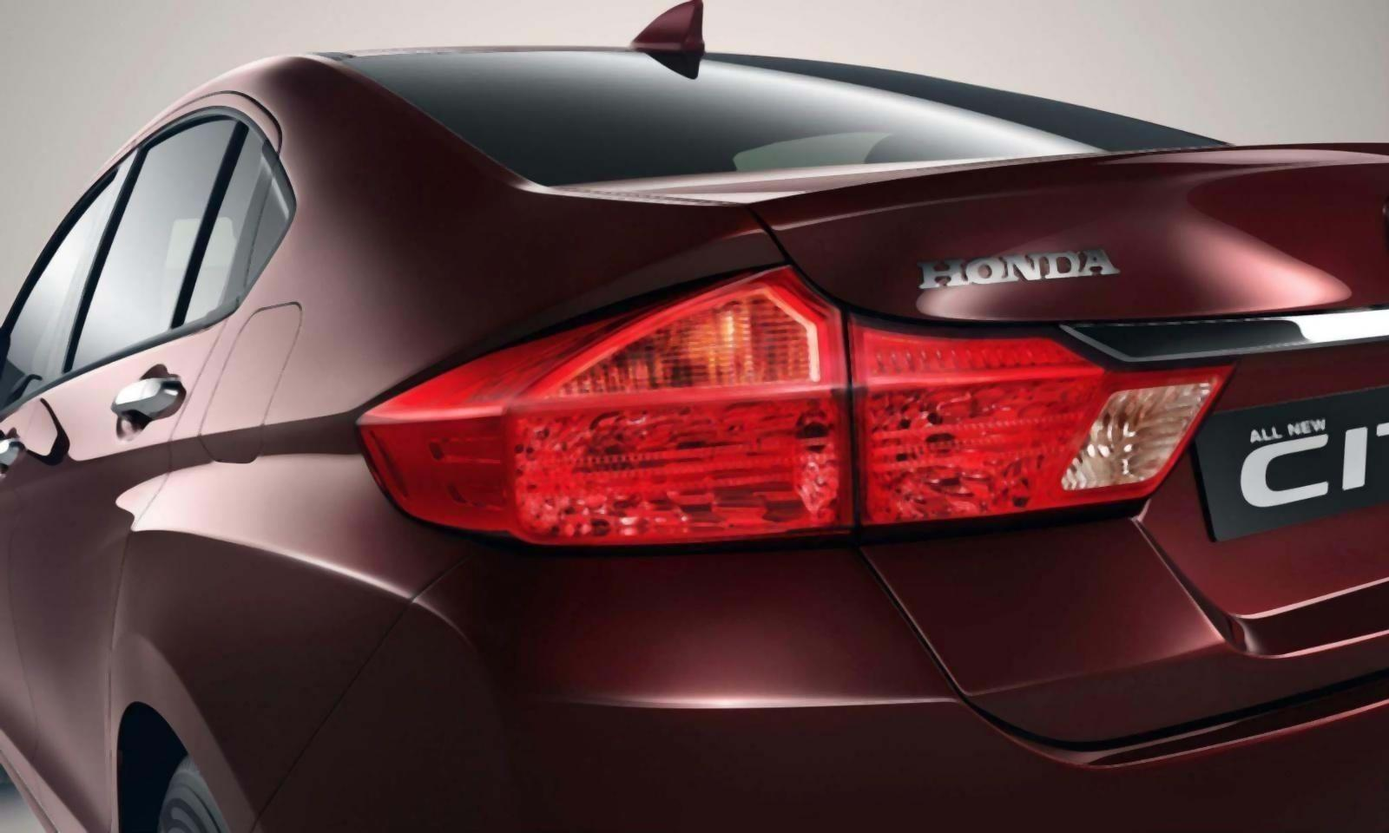Car boot: (737, 167, 1389, 756)
Fender - -R-L-: (115, 308, 451, 833)
Passenger-s door - -F-L-: (0, 146, 117, 833)
Passenger-s door - -R-L-: (52, 89, 236, 833)
Rear bumper: (206, 536, 1389, 833)
Rear light - -L-: (341, 252, 1246, 561)
Side bumper - -L-: (0, 701, 107, 833)
